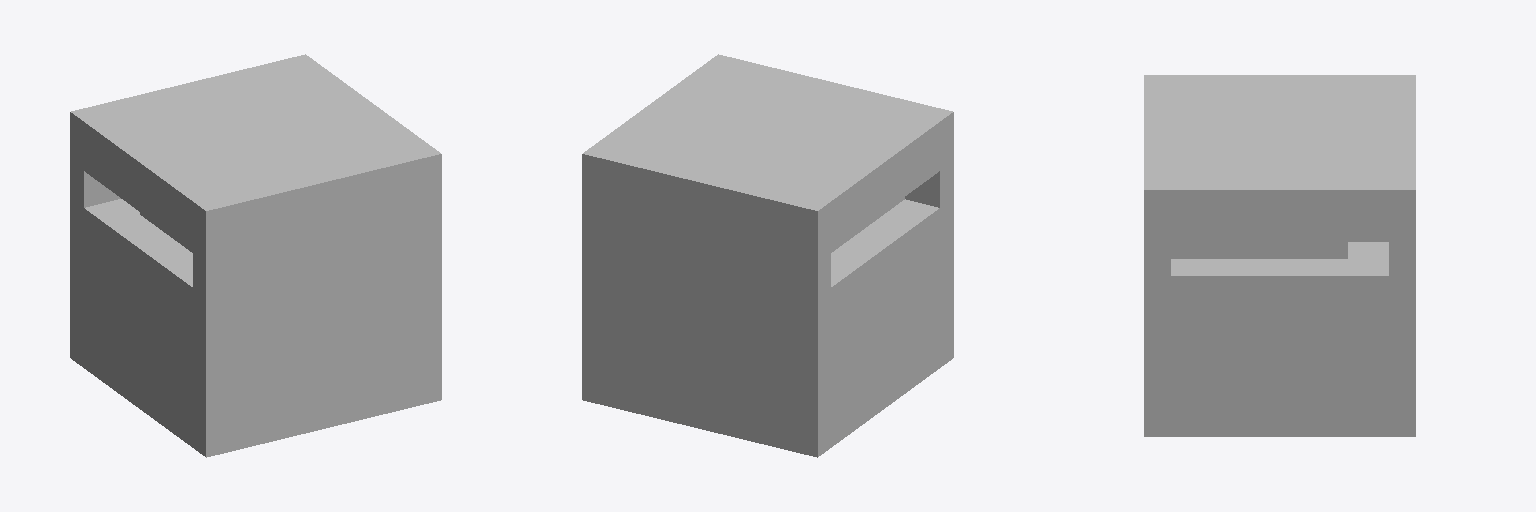
File: robot casing.obj
3 views of the same model, side by side, from view 1: azimuth 30°, elevation 25°; view 2: azimuth 150°, elevation 25°; view 3: azimuth 270°, elevation 25° (orthographic).
Visible parts, largest first — view 1: object 1; view 2: object 1; view 3: object 1.
Part boxes in pixels (left/top/right/bottom): object 1: left=70, top=54, right=441, bottom=457; object 1: left=582, top=54, right=953, bottom=457; object 1: left=1144, top=75, right=1415, bottom=436.
Size of the model in its own units: 2 by 2 by 2.